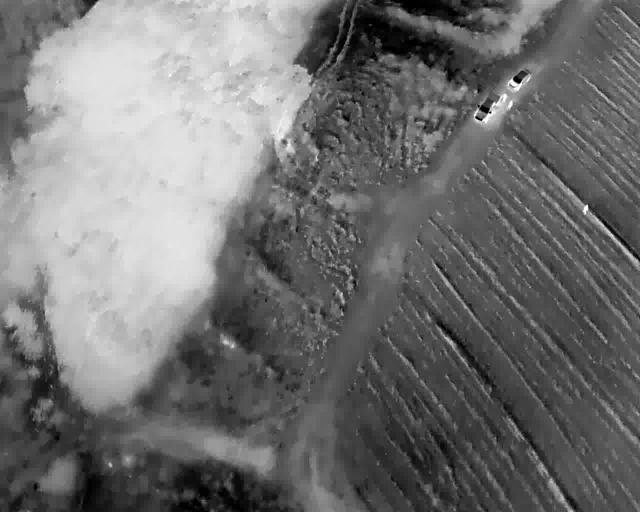car: (486, 30, 501, 60), (519, 12, 532, 35)
person: (583, 136, 592, 147), (513, 39, 520, 50), (510, 33, 515, 43)
